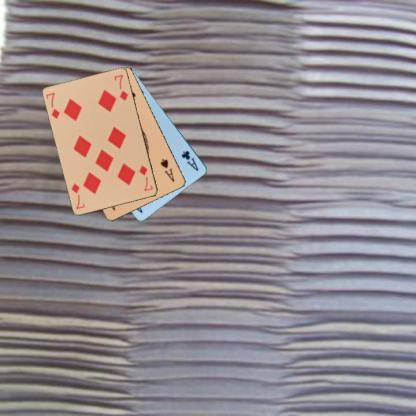7d: (44, 90, 61, 120), (137, 163, 154, 192)
Ac: (179, 148, 200, 172)
As: (158, 156, 176, 183)
